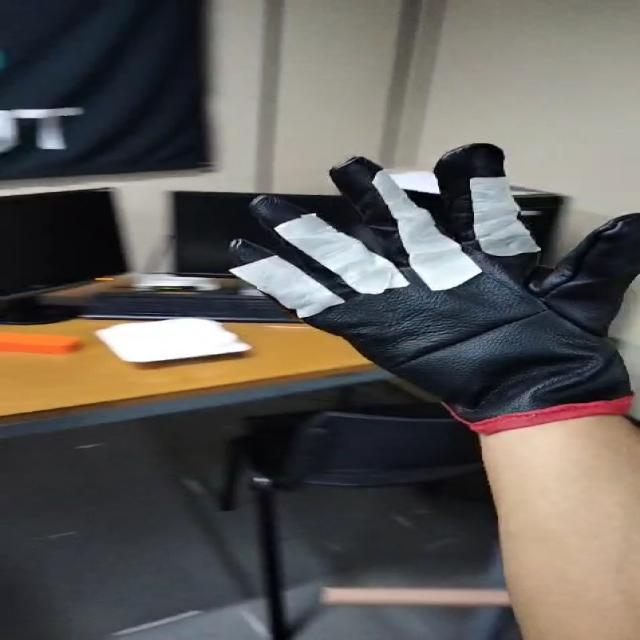Gloves: (231, 138, 640, 430)
